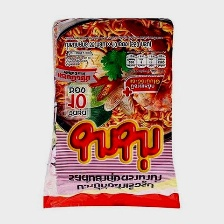snack: (35, 11, 187, 215)
